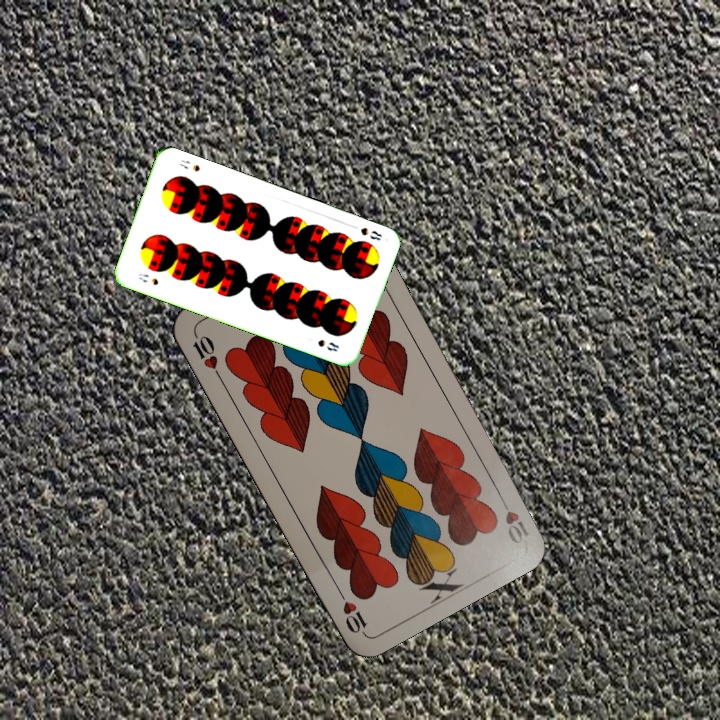H10: (494, 490, 532, 547), (189, 327, 224, 382)
S8: (356, 223, 384, 243), (134, 269, 161, 288)
